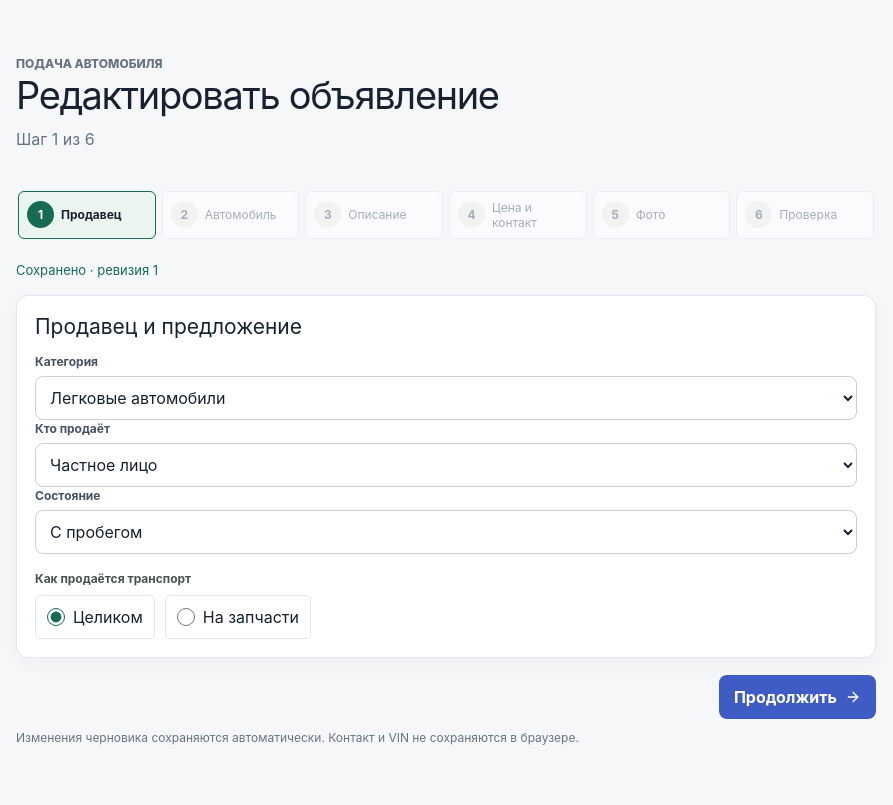
Test: manual vehicle entry › allows revisiting reached steps and keeps future steps locked
Click the button "Продолжить": (797, 697) top-left (719, 675), bottom-right (876, 719)
(page scrolled)
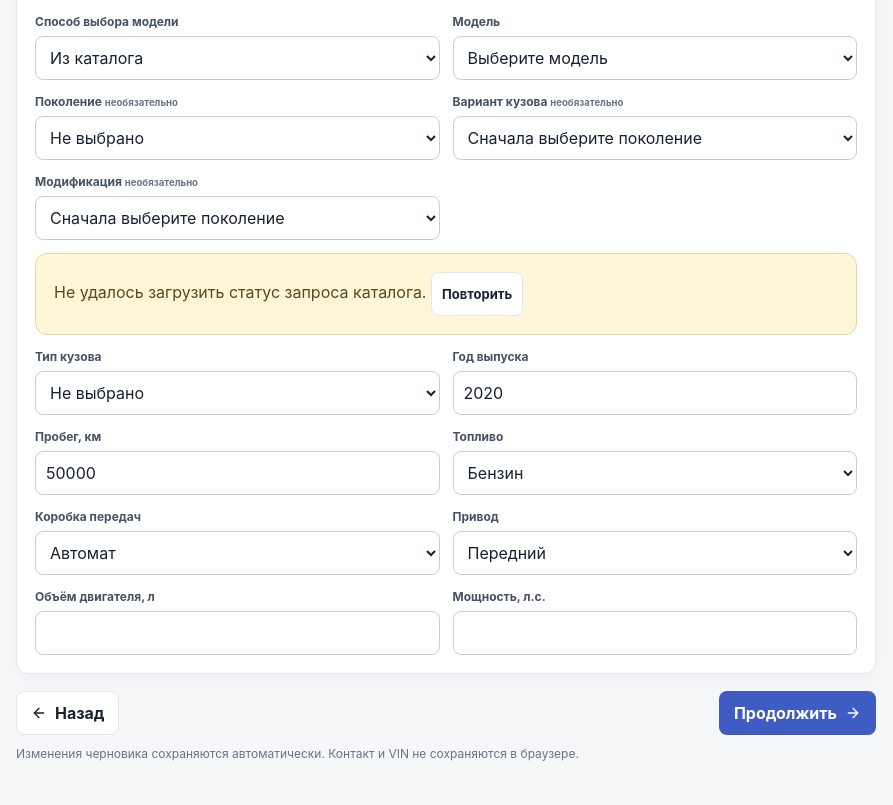
Click the button "Продолжить": (797, 713) top-left (719, 691), bottom-right (876, 735)
(page scrolled)
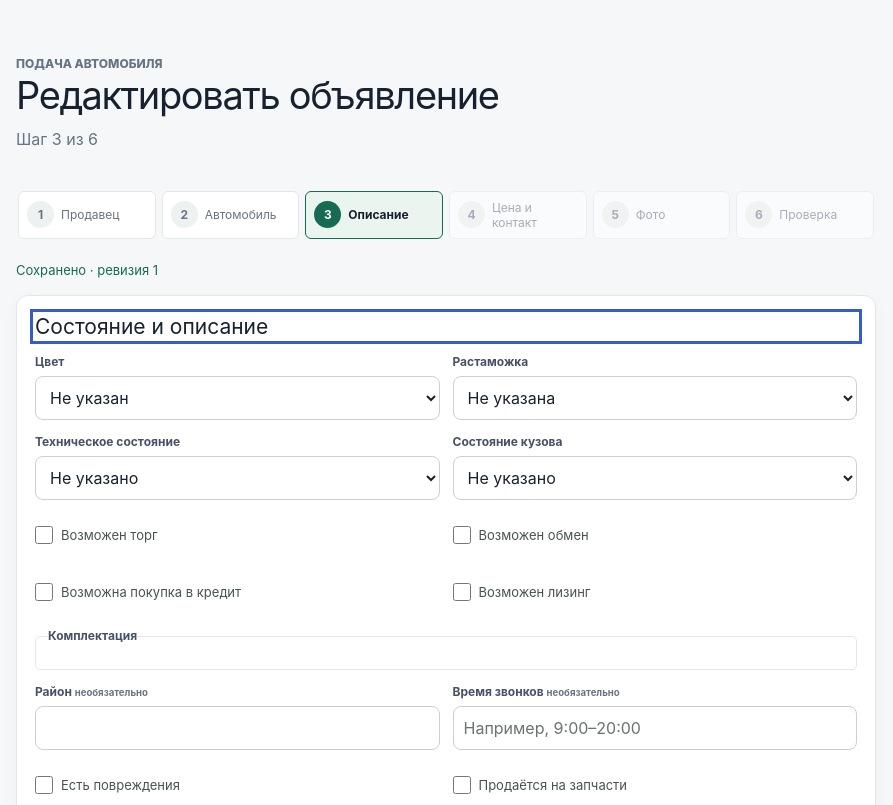
Expected: the button "4 Цена и контакт" is disabled, top-left (449, 191), bottom-right (587, 239)
Expected: the button "3 Описание" is enabled, top-left (305, 191), bottom-right (443, 239)
Click the button "1 Продавец": (87, 215) top-left (18, 191), bottom-right (156, 239)
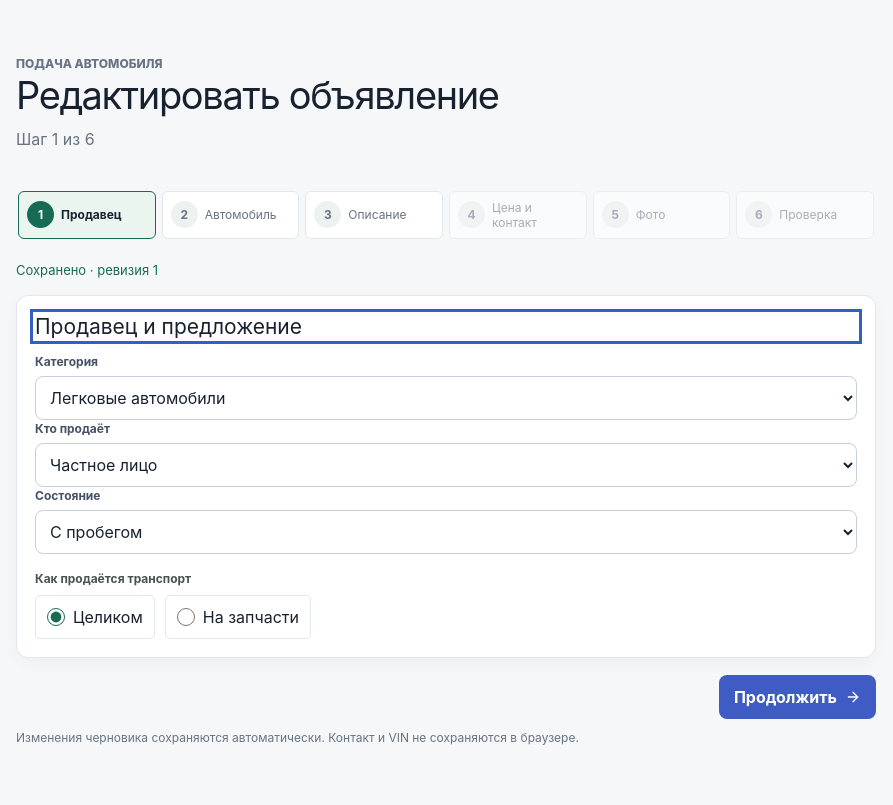
Expected: the button "3 Описание" is enabled
Click the button "3 Описание": (374, 215) top-left (305, 191), bottom-right (443, 239)
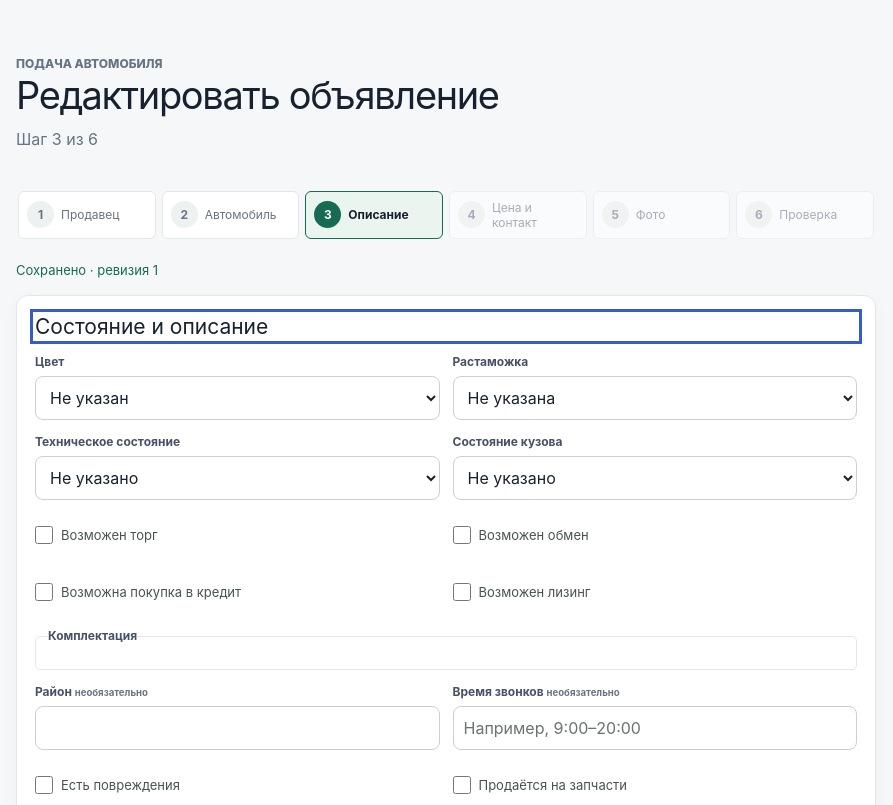
Expected: the button "4 Цена и контакт" is disabled, top-left (449, 191), bottom-right (587, 239)
Expected: the heading "Состояние и описание" is shown, top-left (35, 314), bottom-right (268, 339)
